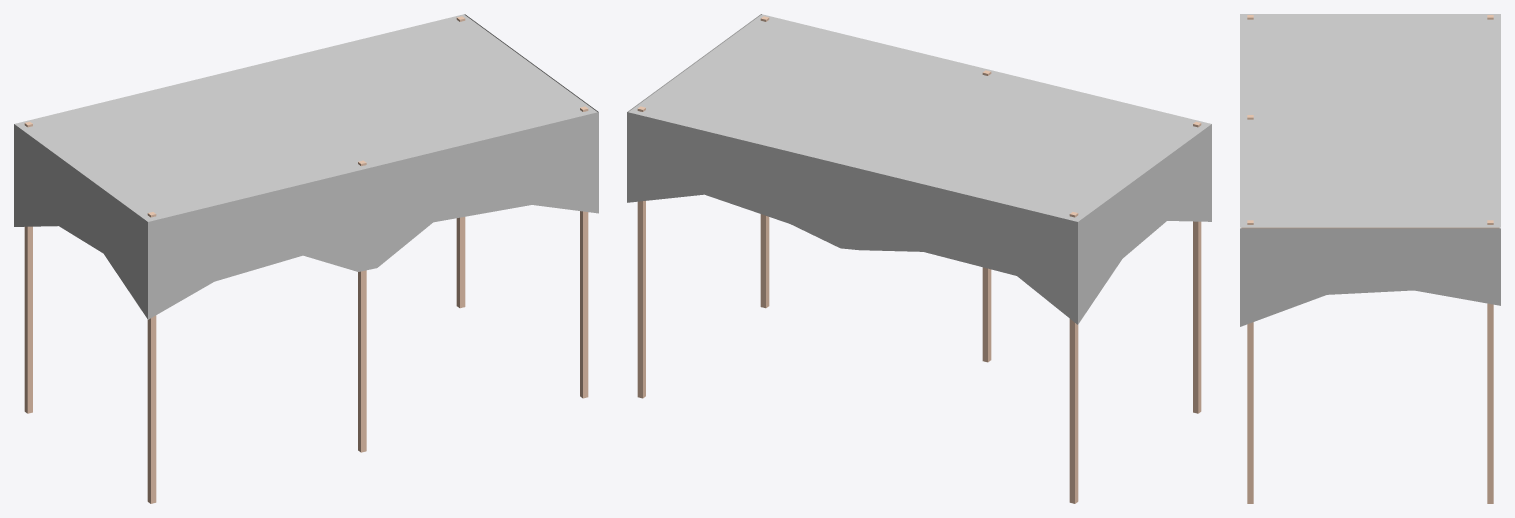
The model's file is camo_stand_01_4x2_a.dae.
3 views of the same model, side by side, from view 1: azimuth 30°, elevation 25°; view 2: azimuth 150°, elevation 25°; view 3: azimuth 270°, elevation 25° (orthographic). The views are drawn at different scales.
Visible parts, largest first — view 1: camo; view 2: camo; view 3: camo.
Part boxes in pixels (bbox=[...]): camo: bbox=[14, 14, 598, 503]; camo: bbox=[627, 14, 1211, 503]; camo: bbox=[1240, 14, 1500, 503].
Size of the model in its own units: 4.12 by 2.12 by 2.52.
